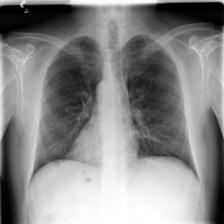normal: (28, 34, 204, 190)
